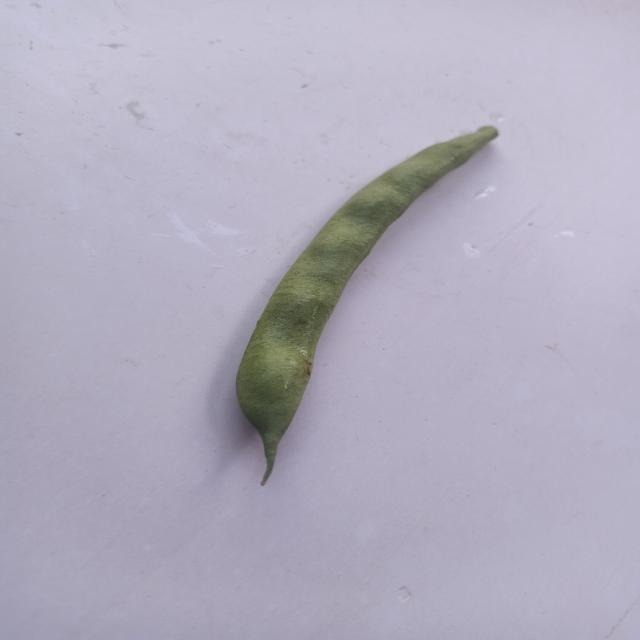Beans: (218, 110, 518, 497)
